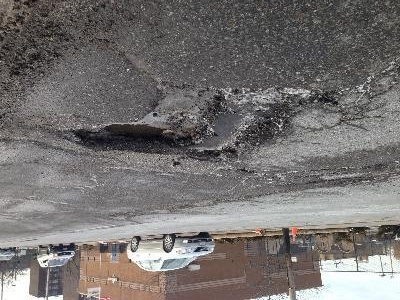pothole: (72, 85, 312, 163), (307, 164, 373, 186)
